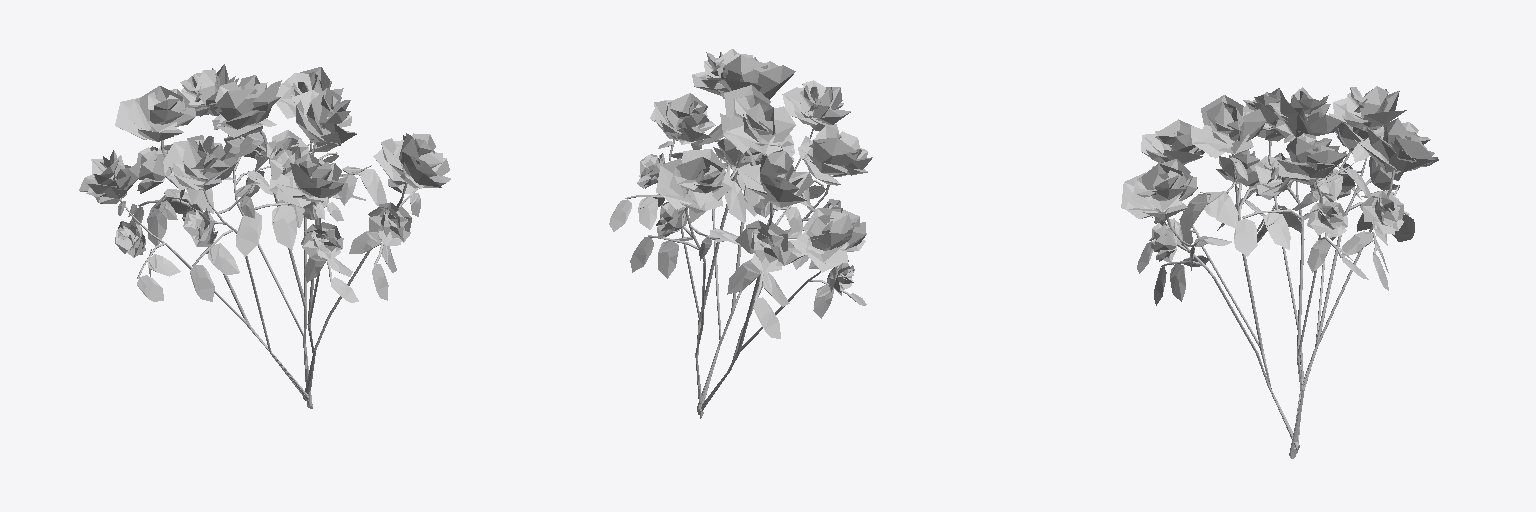
Rendered from flower1.obj.
3 views of the same model, side by side, from view 1: azimuth 30°, elevation 25°; view 2: azimuth 150°, elevation 25°; view 3: azimuth 270°, elevation 25° (orthographic).
Visible parts, largest first — view 1: group[number redacted], group[number redacted], group[number redacted]; view 2: group[number redacted], group[number redacted], group[number redacted]; view 3: group[number redacted], group[number redacted], group[number redacted].
Part boxes in pixels (left/top/right/bottom): group[number redacted]: left=236, top=88, right=450, bottom=400; group[number redacted]: left=79, top=86, right=308, bottom=399; group[number redacted]: left=180, top=64, right=365, bottom=408; group[number redacted]: left=609, top=85, right=795, bottom=418; group[number redacted]: left=698, top=126, right=872, bottom=414; group[number redacted]: left=680, top=49, right=850, bottom=413; group[number redacted]: left=1234, top=87, right=1438, bottom=458; group[number redacted]: left=1121, top=95, right=1299, bottom=450; group[number redacted]: left=1242, top=86, right=1414, bottom=454.
Bounding box in the file's own units: 2.46 × 3.04 × 2.54.